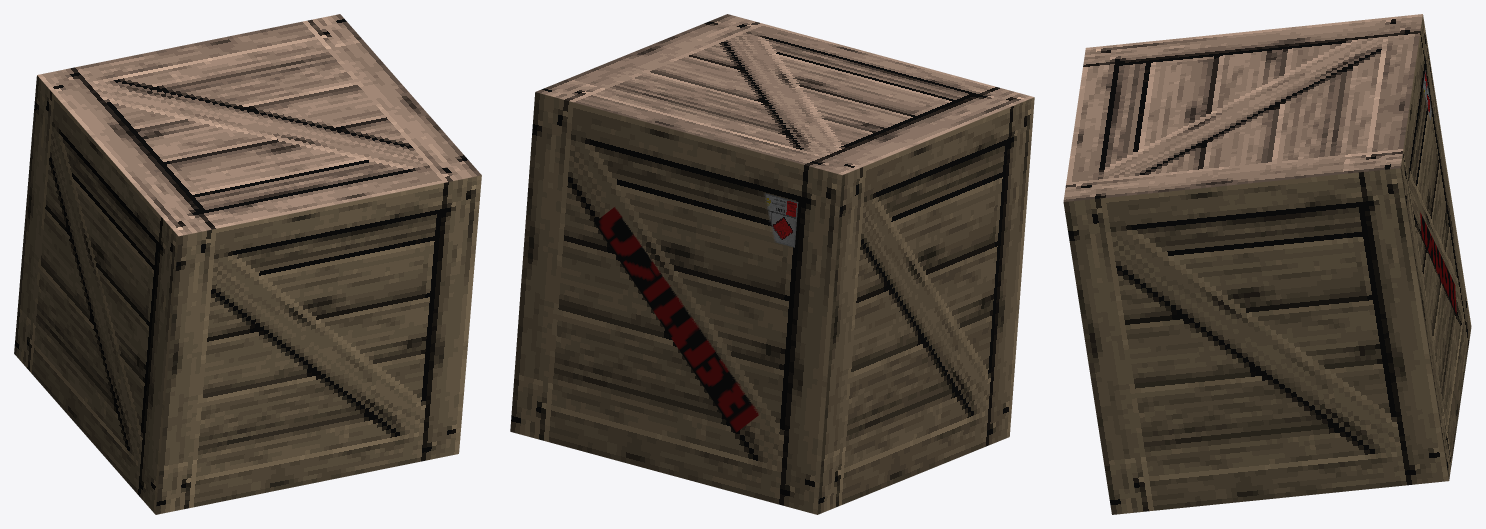
Rendered from primary_139.glb.
The picture shows the model from 3 angles, left to right: view 1: azimuth 30°, elevation 25°; view 2: azimuth 150°, elevation 25°; view 3: azimuth 270°, elevation 25°; orthographic projection. The views are drawn at different scales.
Visible parts, largest first — view 1: Object; view 2: Object; view 3: Object.
Part boxes in pixels (box(x1,y1,x2,y2)): Object: box(14, 14, 481, 514); Object: box(510, 14, 1034, 514); Object: box(1063, 14, 1471, 514).
Bounding box in the file's own units: 1.09 × 1.14 × 1.17.
7 materials, 7 textured.
